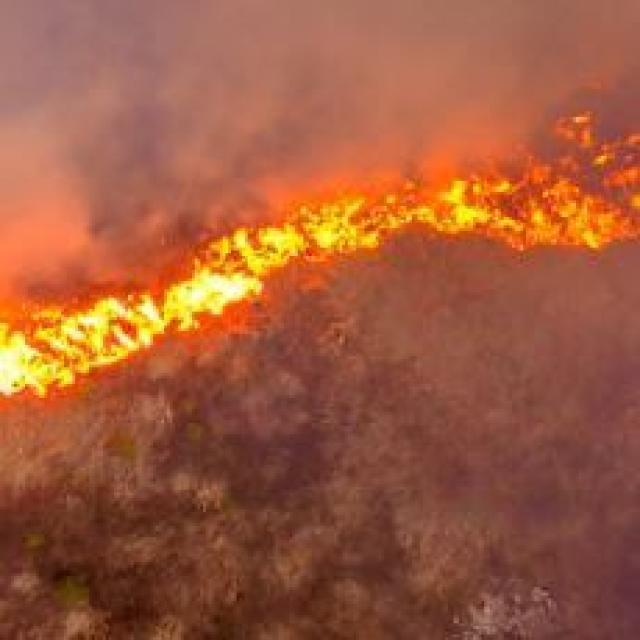Fire: (0, 103, 640, 470)
Smoke: (8, 0, 640, 284)
